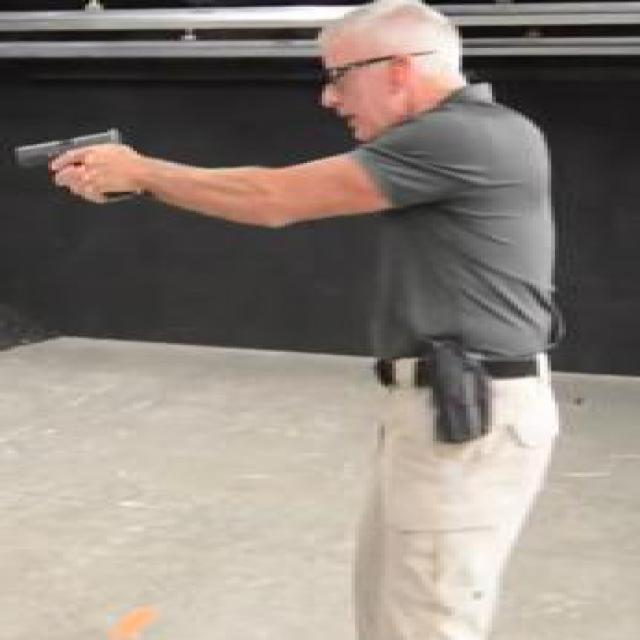weapon: (16, 128, 124, 204)
